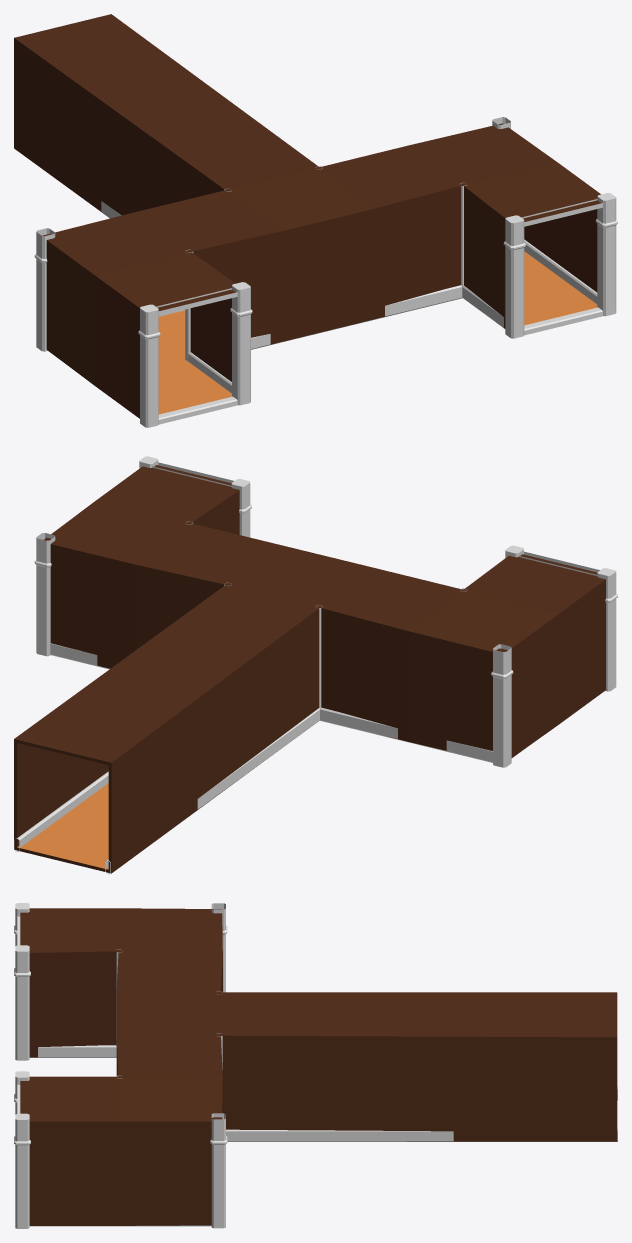
Rendered from TCorridor.fbx.
3 renders of one model, top to bottom at view 1: azimuth 30°, elevation 25°; view 2: azimuth 150°, elevation 25°; view 3: azimuth 270°, elevation 25°, orthographic. The views are drawn at different scales.
Visible parts, largest first — view 1: TGangTest, Uebergang.005, Uebergang.004, LongRailSPair.001, PillarPair.003, ShortRailL, CornerpiecePair.001; view 2: TGangTest, PillarPair.003, LongRailSPair, ShortRailSPair, Uebergang.004, Uebergang.005; view 3: TGangTest, LongRailSPair, PillarPair.003, Uebergang.004, Uebergang.005, LongRailSPair.001.
Boxes of the visible parts, x1,y1,x2,y2 form: TGangTest: (14, 14, 600, 418); Uebergang.005: (503, 193, 617, 338); Uebergang.004: (138, 282, 252, 427); LongRailSPair.001: (47, 239, 597, 393); PillarPair.003: (34, 117, 510, 351); ShortRailL: (251, 285, 462, 349); CornerpiecePair.001: (185, 182, 466, 361); TGangTest: (14, 465, 605, 873); PillarPair.003: (34, 533, 513, 767); LongRailSPair: (14, 708, 319, 874); ShortRailSPair: (50, 643, 492, 762); Uebergang.004: (505, 545, 617, 691); Uebergang.005: (139, 456, 251, 537); TGangTest: (20, 908, 617, 1225); LongRailSPair: (226, 1086, 617, 1141); PillarPair.003: (210, 903, 227, 1228); Uebergang.004: (14, 903, 30, 1060); Uebergang.005: (14, 1071, 30, 1228); LongRailSPair.001: (29, 1045, 211, 1226).
Size of the model in its own units: 1126 by 263 by 1319.
